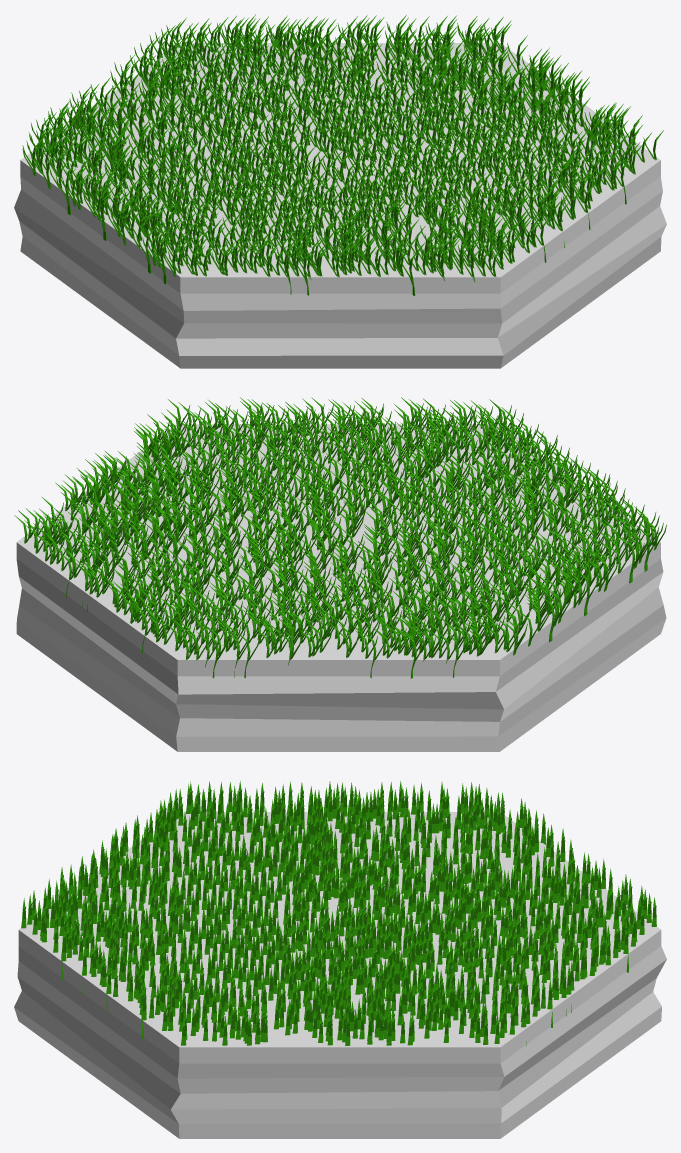
Rendered from ground grass.fbx.
3 renders of one model, top to bottom at view 1: azimuth 30°, elevation 25°; view 2: azimuth 150°, elevation 25°; view 3: azimuth 270°, elevation 25°, orthographic.
Visible parts, largest first — view 1: Plane.947; view 2: Plane.947; view 3: Plane.947.
Boxes of the visible parts, x1,y1,x2,y2 form: Plane.947: (14,14,666,368); Plane.947: (14,397,666,751); Plane.947: (14,781,666,1138).
Size of the model in its own units: 755 by 169 by 848.
